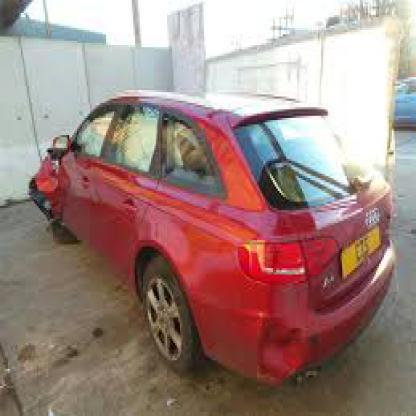dent: (260, 317, 304, 370)
